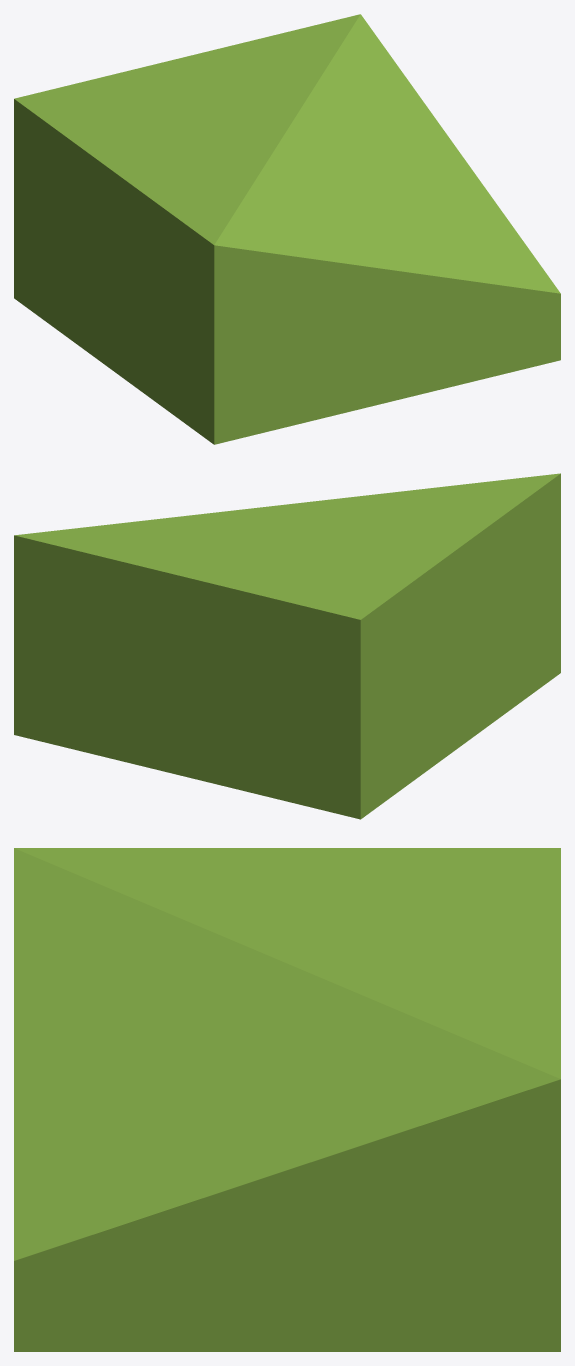
File: tile072.dae
3 renders of one model, top to bottom at view 1: azimuth 30°, elevation 25°; view 2: azimuth 150°, elevation 25°; view 3: azimuth 270°, elevation 25°, orthographic. The views are drawn at different scales.
Parts seen in each view (by area): view 1: tile072; view 2: tile072; view 3: tile072.
Part boxes in pixels (left/top/right/bottom): tile072: left=14, top=14, right=560, bottom=444; tile072: left=14, top=473, right=560, bottom=819; tile072: left=14, top=848, right=560, bottom=1351.
Bounding box in the file's own units: 1 × 0.55 × 1.
